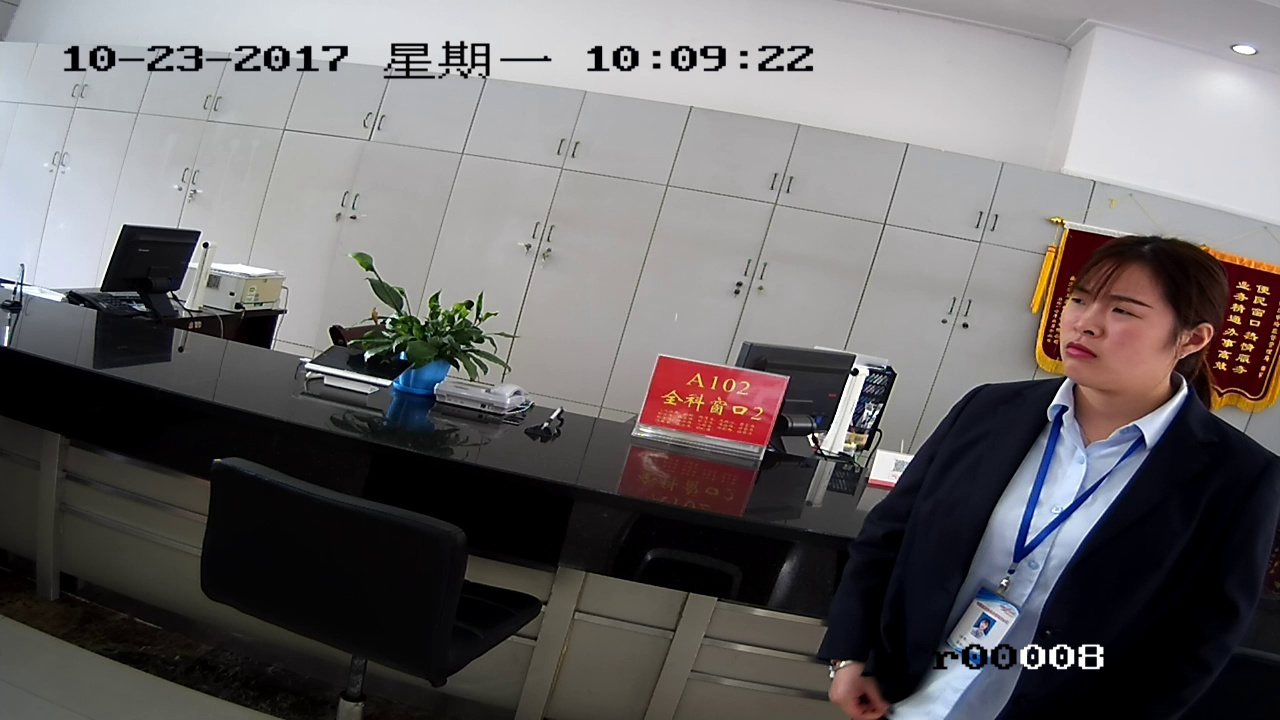billboard: (630, 349, 780, 466)
chair: (181, 470, 508, 707)
monitor: (107, 223, 188, 332)
person: (1036, 227, 1226, 622)
pot: (362, 264, 478, 424)
